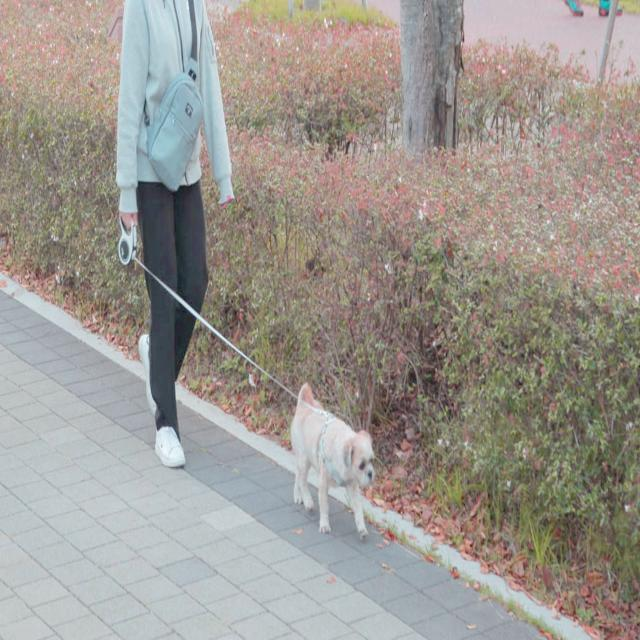Leashed_Dog: (142, 188, 373, 538)
